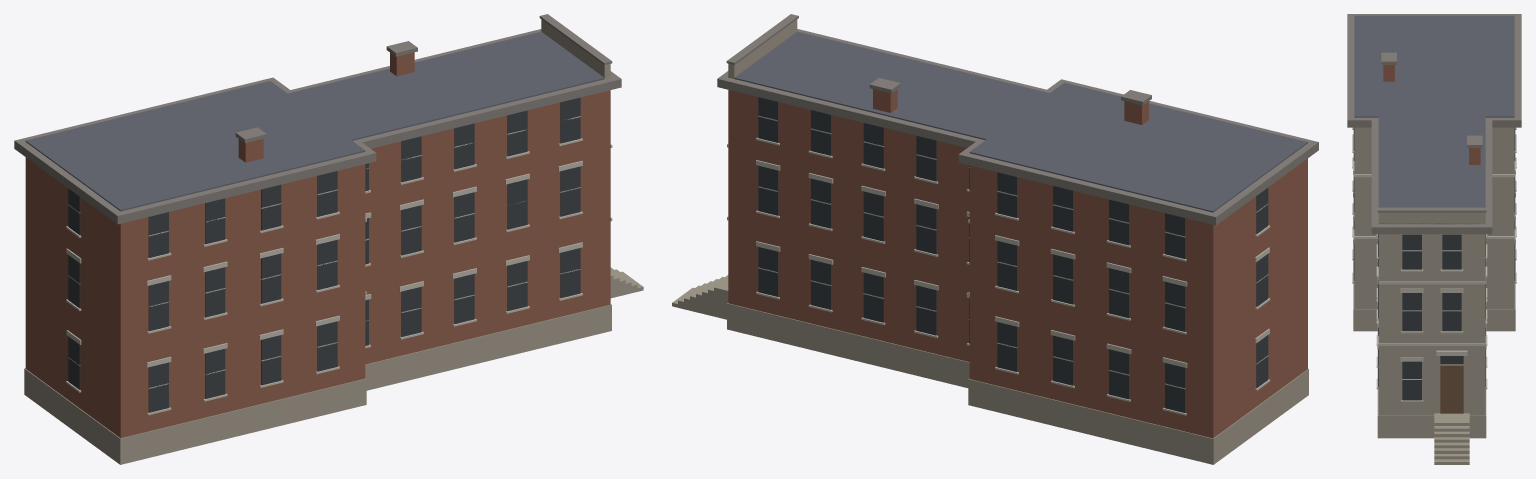
Rendered from house_1828_prairie__draft_1904.glb.
The picture shows the model from 3 angles, left to right: view 1: azimuth 30°, elevation 25°; view 2: azimuth 150°, elevation 25°; view 3: azimuth 270°, elevation 25°; orthographic projection. The views are drawn at different scales.
Visible parts, largest first — view 1: house_1828_prairie__draft_1904; view 2: house_1828_prairie__draft_1904; view 3: house_1828_prairie__draft_1904.
Part boxes in pixels (box(x1,y1,x2,y2)): house_1828_prairie__draft_1904: box(14, 14, 643, 464); house_1828_prairie__draft_1904: box(672, 14, 1318, 464); house_1828_prairie__draft_1904: box(1347, 14, 1521, 464).
Bounding box in the file's own units: 28.9 × 13.34 × 8.95.
